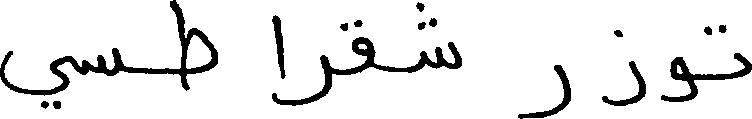X: (0, 46, 68, 113), (171, 0, 217, 95), (602, 25, 645, 110), (519, 60, 571, 118), (286, 50, 332, 110), (423, 0, 460, 73), (663, 52, 696, 106), (351, 15, 373, 78), (85, 43, 119, 80), (273, 10, 284, 109), (734, 48, 751, 82)
